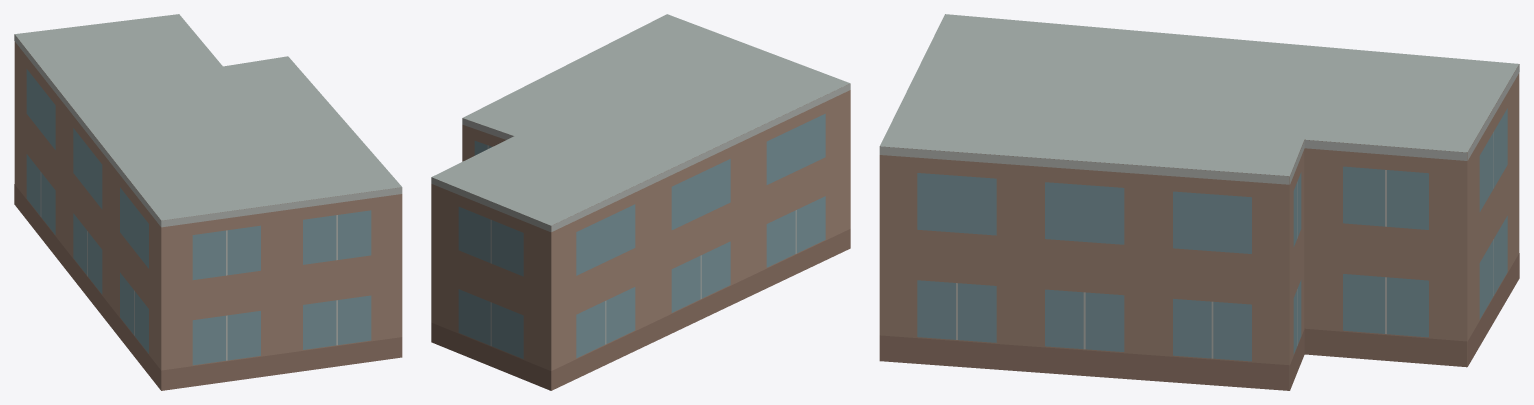
Rendered from survey-upis-32711410.glb.
3 renders of one model, left to right at view 1: azimuth 30°, elevation 25°; view 2: azimuth 150°, elevation 25°; view 3: azimuth 270°, elevation 25°, orthographic. The views are drawn at different scales.
Parts seen in each view (by area): view 1: survey-upis-32711410.tmp; view 2: survey-upis-32711410.tmp; view 3: survey-upis-32711410.tmp.
Part boxes in pixels (bbox=[...]): survey-upis-32711410.tmp: bbox=[14, 14, 402, 390]; survey-upis-32711410.tmp: bbox=[431, 14, 850, 390]; survey-upis-32711410.tmp: bbox=[879, 14, 1519, 390].
Bounding box in the file's own units: 9.89 × 6.1 × 16.48.
